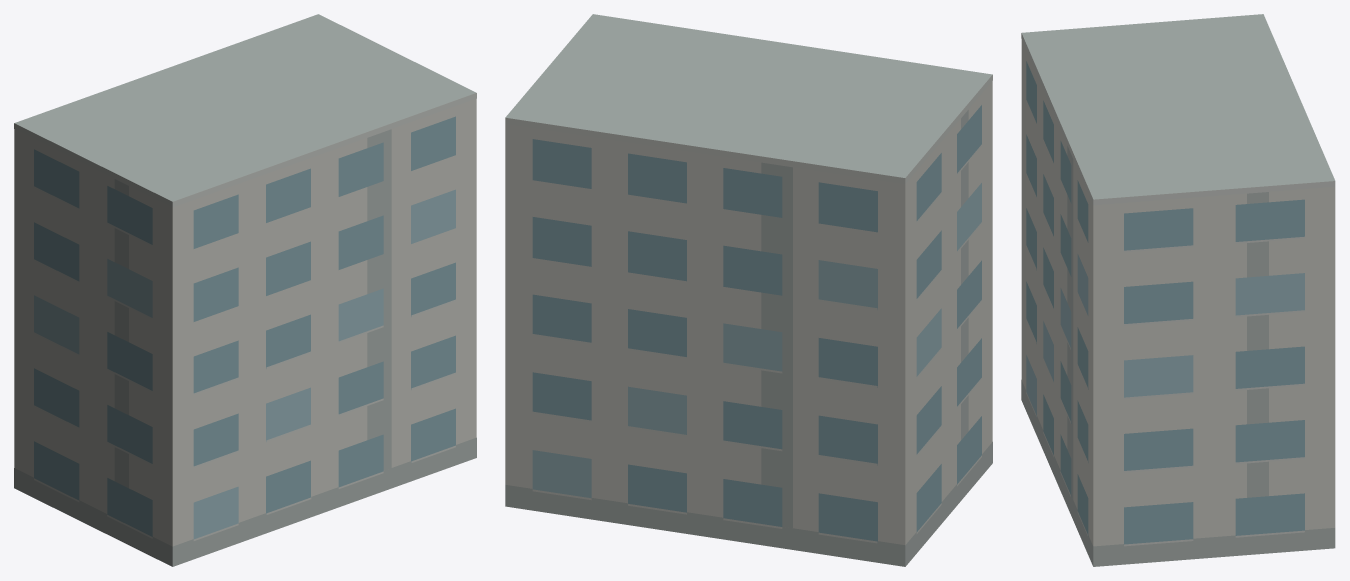
Rendered from residential-3751a71f-e92b-41a4-9bfe-6aa703d0a25f.glb.
The picture shows the model from 3 angles, left to right: view 1: azimuth 30°, elevation 25°; view 2: azimuth 150°, elevation 25°; view 3: azimuth 270°, elevation 25°; orthographic projection. The views are drawn at different scales.
Visible parts, largest first — view 1: residential-3751a71f-e92b-41a4-9bfe-6aa703d0a25f.tmp; view 2: residential-3751a71f-e92b-41a4-9bfe-6aa703d0a25f.tmp; view 3: residential-3751a71f-e92b-41a4-9bfe-6aa703d0a25f.tmp.
Boxes of the visible parts, <box> form: residential-3751a71f-e92b-41a4-9bfe-6aa703d0a25f.tmp: <box>14,14,476,566</box>; residential-3751a71f-e92b-41a4-9bfe-6aa703d0a25f.tmp: <box>505,14,992,566</box>; residential-3751a71f-e92b-41a4-9bfe-6aa703d0a25f.tmp: <box>1021,14,1335,566</box>.
Bounding box in the file's own units: 16.53 × 15.25 × 11.82.
